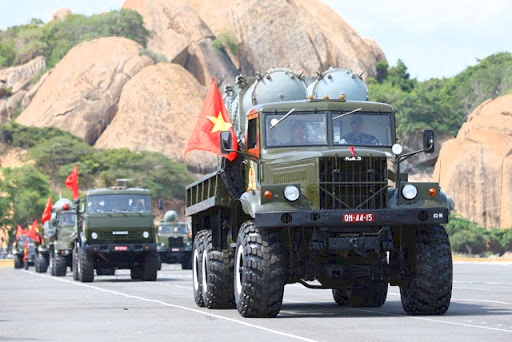plate: (340, 211, 378, 223), (113, 243, 132, 251)
